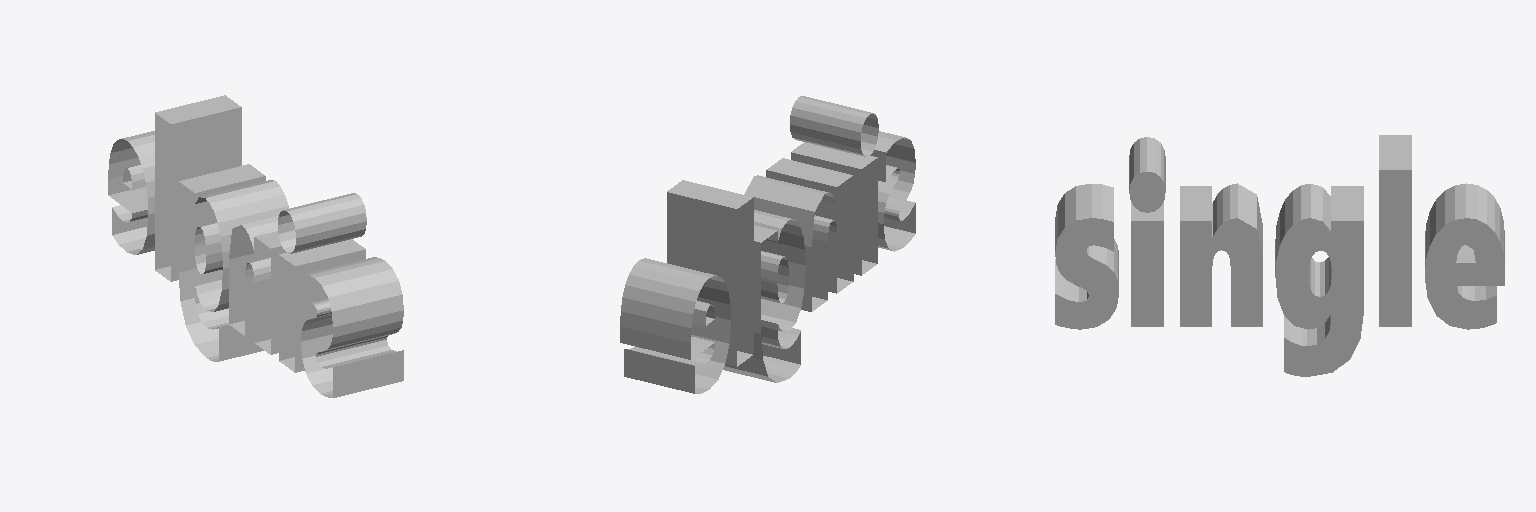
The model's file is typemesh_single.obj.
3 renders of one model, left to right at view 1: azimuth 30°, elevation 25°; view 2: azimuth 150°, elevation 25°; view 3: azimuth 270°, elevation 25°, orthographic.
Parts seen in each view (by area): view 1: typeMesh_single group2; view 2: typeMesh_single group2; view 3: typeMesh_single group2.
Boxes of the visible parts, <box> form: typeMesh_single group2: <box>108,95,403,397</box>; typeMesh_single group2: <box>620,96,915,393</box>; typeMesh_single group2: <box>1055,135,1504,376</box>.
Size of the model in its own units: 0.0946 by 0.2649 by 0.5202.